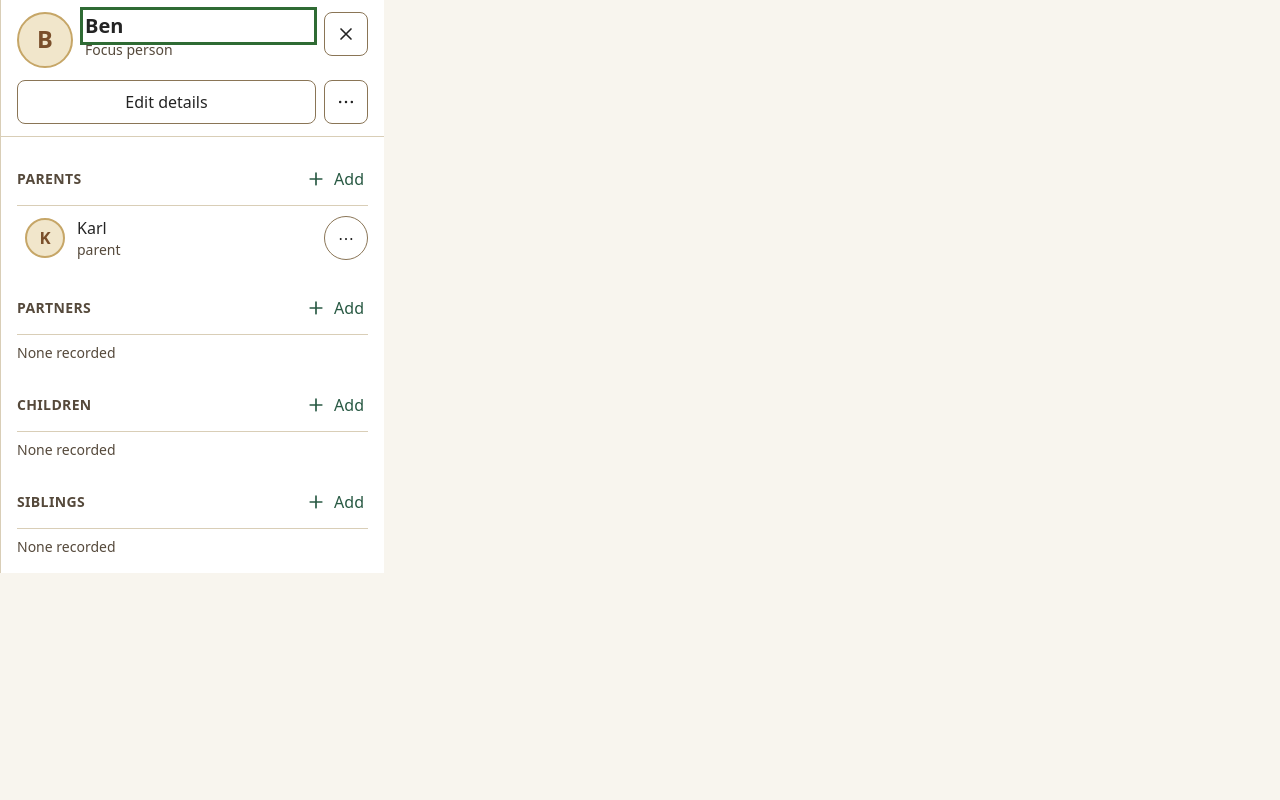
Test: add relative: siblings › with one parent asks nothing; with none it announces the unnamed parent
Click the button with aria-label "Add sibling" at (335, 502), box [294,480,376,524]
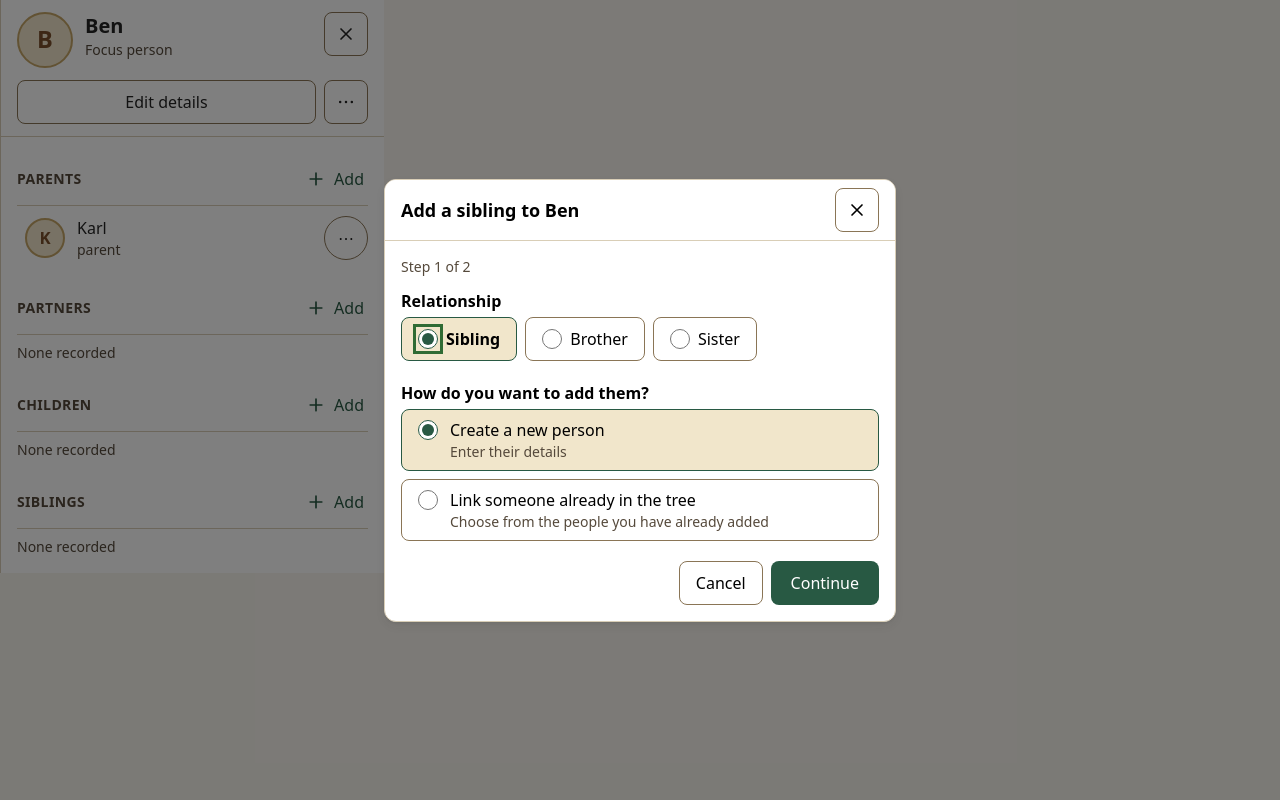
Click the radio button labelled "Sister" at (680, 338), box [670,328,690,348]
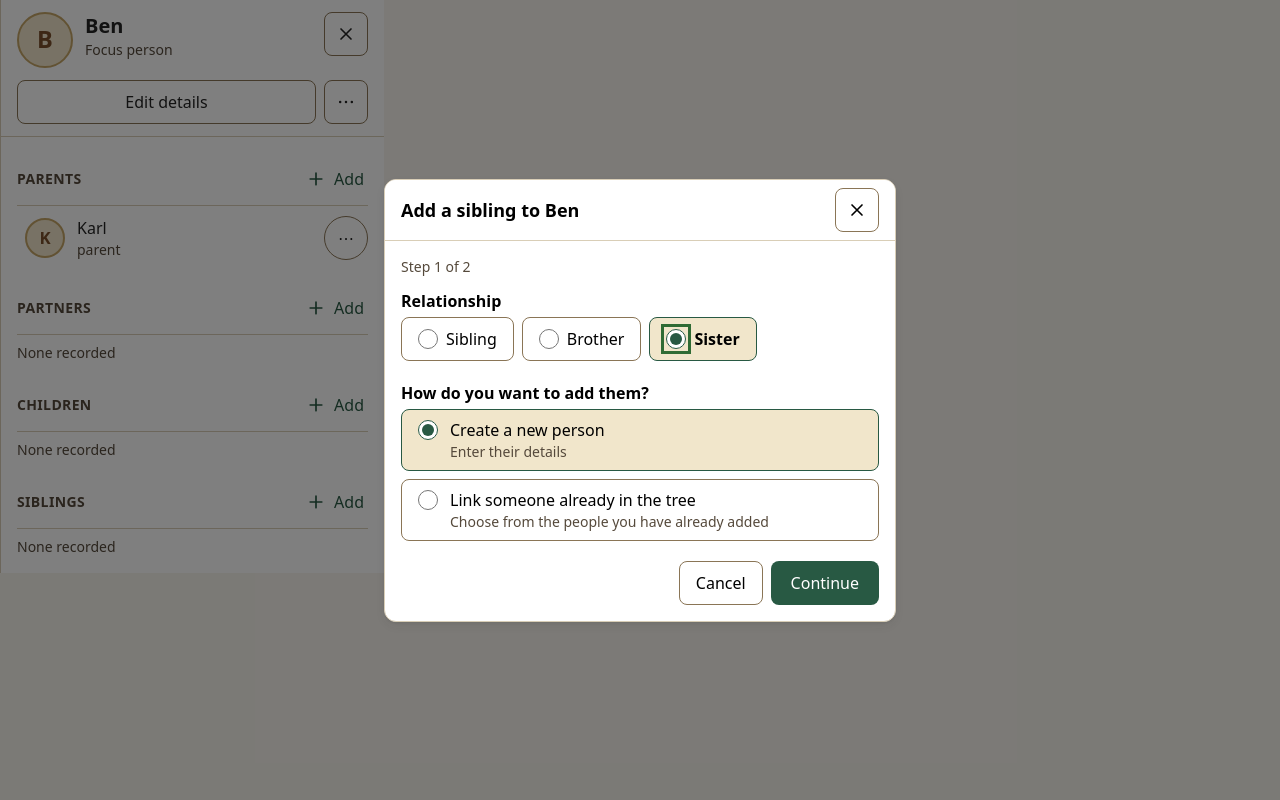
Click the button "Continue" at (825, 582), box [771,560,879,604]
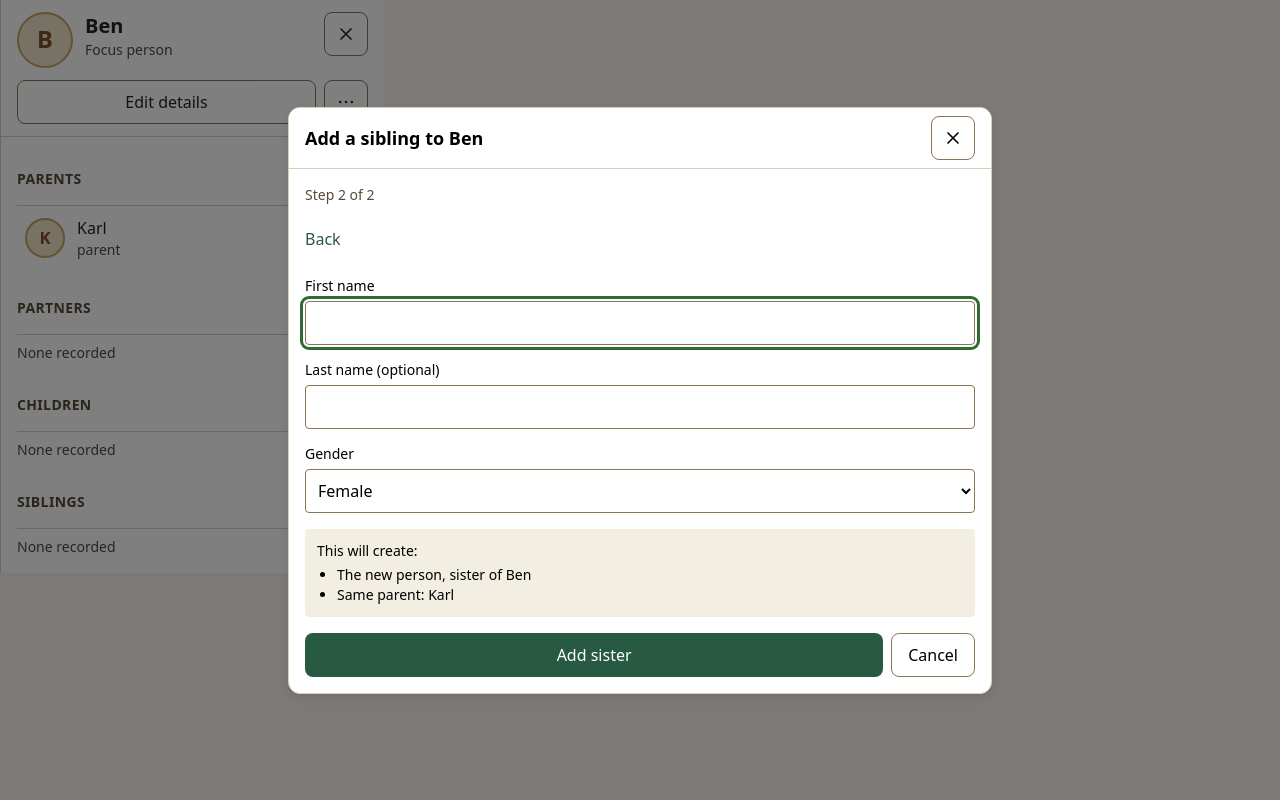
Now no radio buttons are shown
